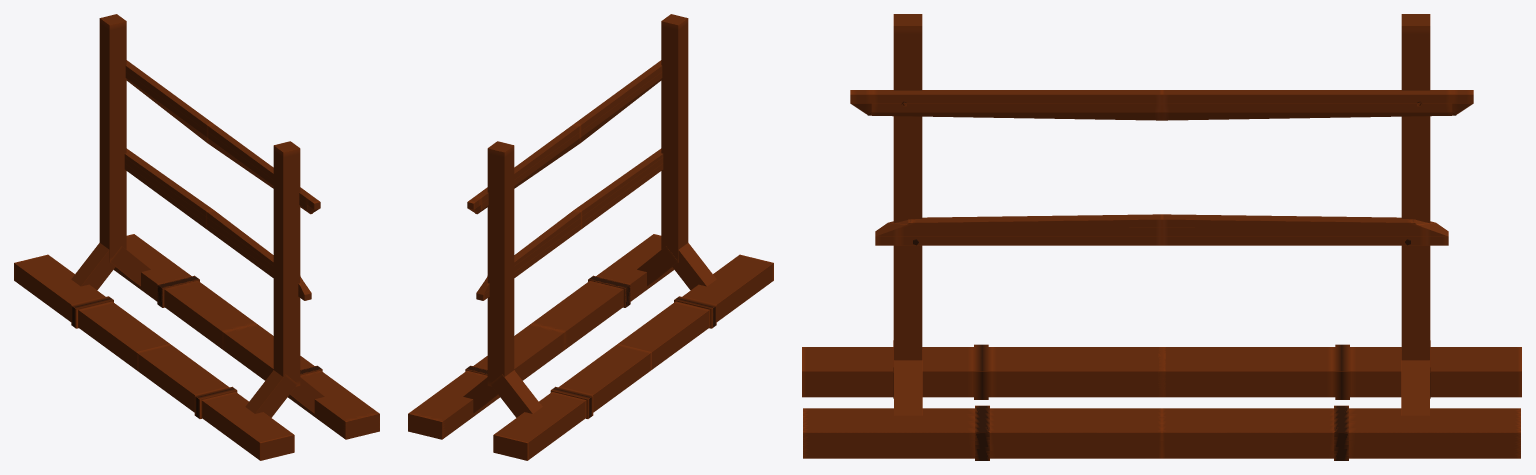
Rendered from Rack.fbx.
The picture shows the model from 3 angles, left to right: view 1: azimuth 30°, elevation 25°; view 2: azimuth 150°, elevation 25°; view 3: azimuth 270°, elevation 25°; orthographic projection. The views are drawn at different scales.
Visible parts, largest first — view 1: Rack; view 2: Rack; view 3: Rack.
Boxes of the visible parts, x1,y1,x2,y2 form: Rack: (14, 14, 379, 460); Rack: (408, 14, 773, 460); Rack: (802, 14, 1521, 460).
Bounding box in the file's own units: 362 × 772 × 1254.
